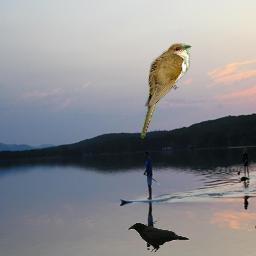Crow: (126, 221, 189, 252)
Cuckoo: (140, 43, 192, 139)
